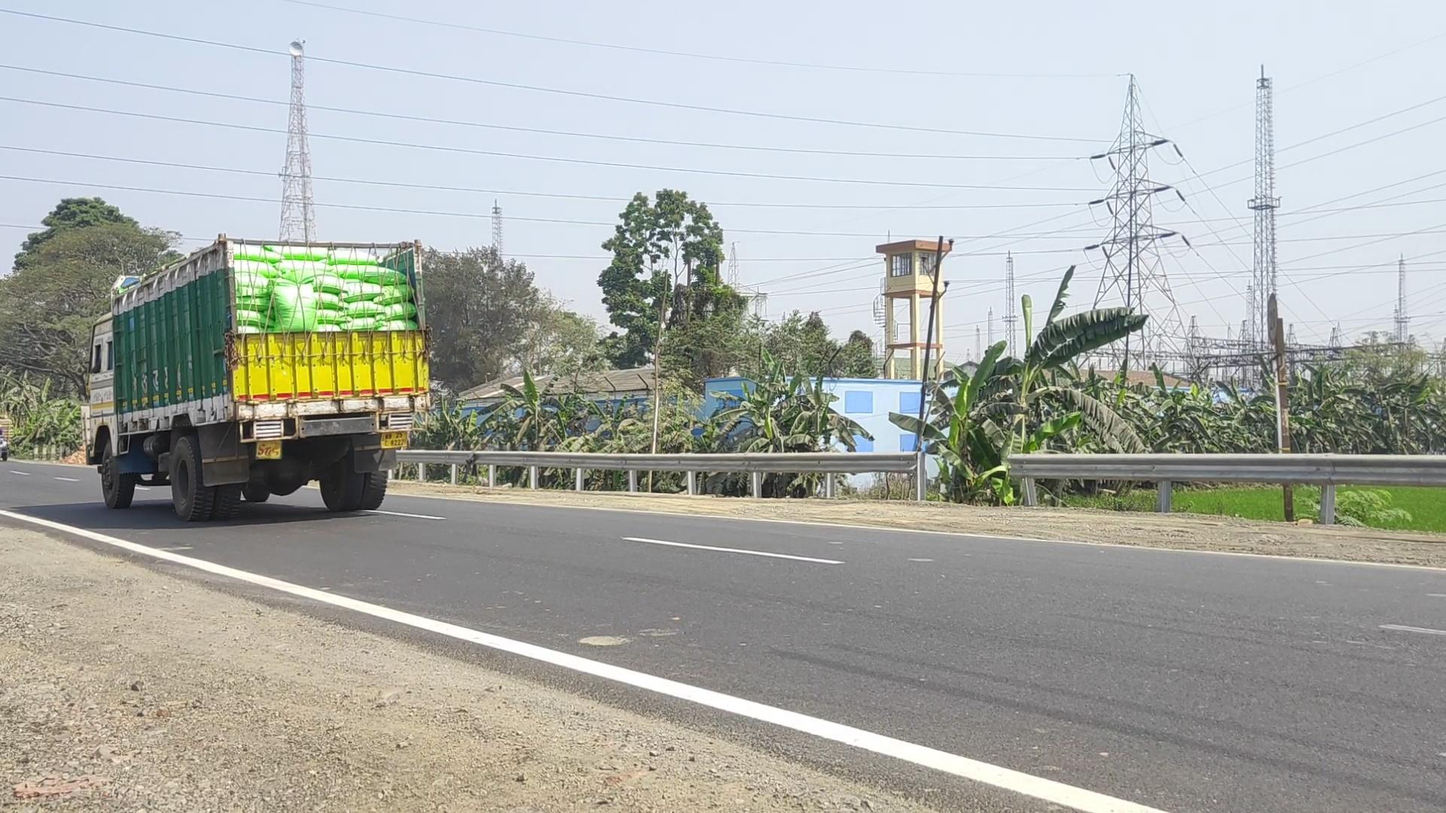truck: (82, 233, 430, 522)
